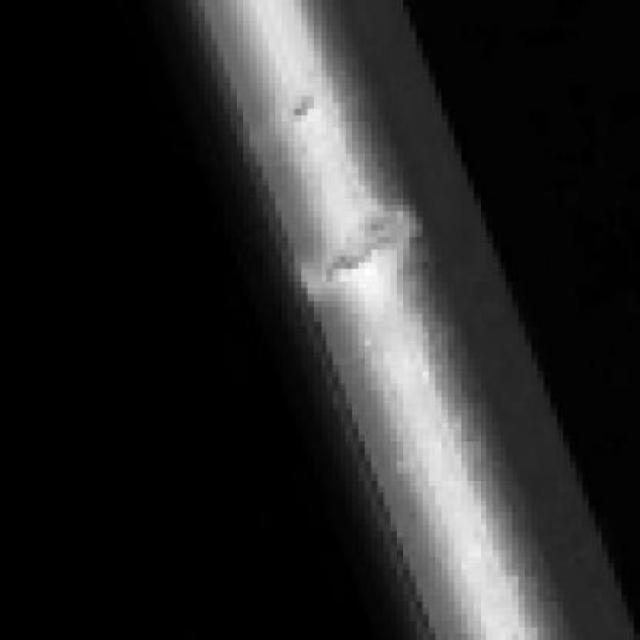non-defective: (138, 0, 640, 639)
